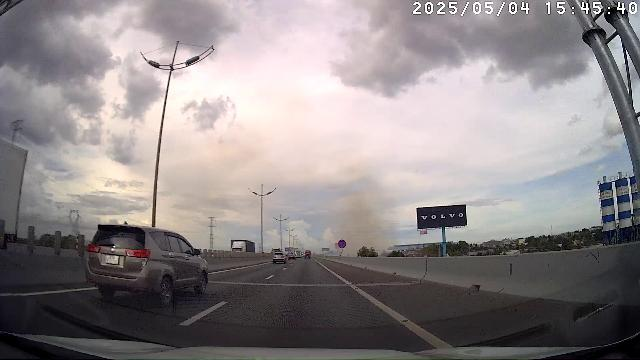130-cam-dung-va-do-xe: (338, 239, 347, 249)
